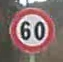limite 60: (8, 5, 56, 53)
